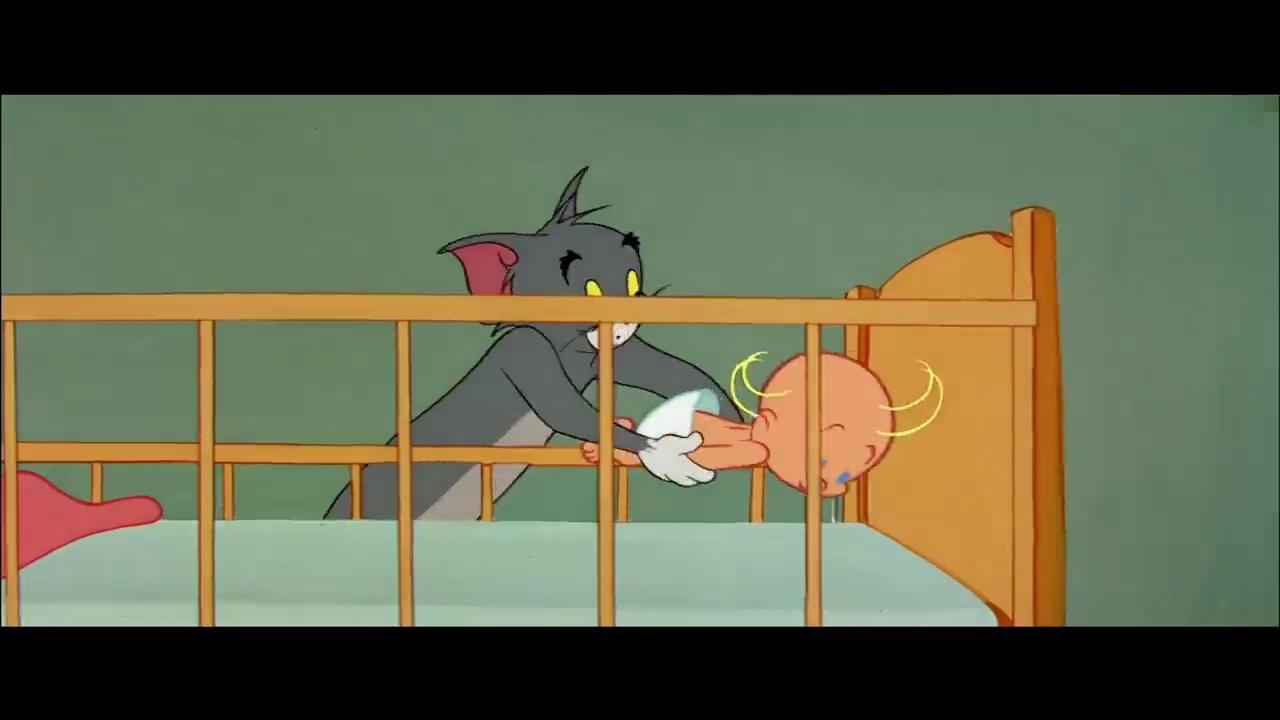Tom: (321, 163, 746, 522)
